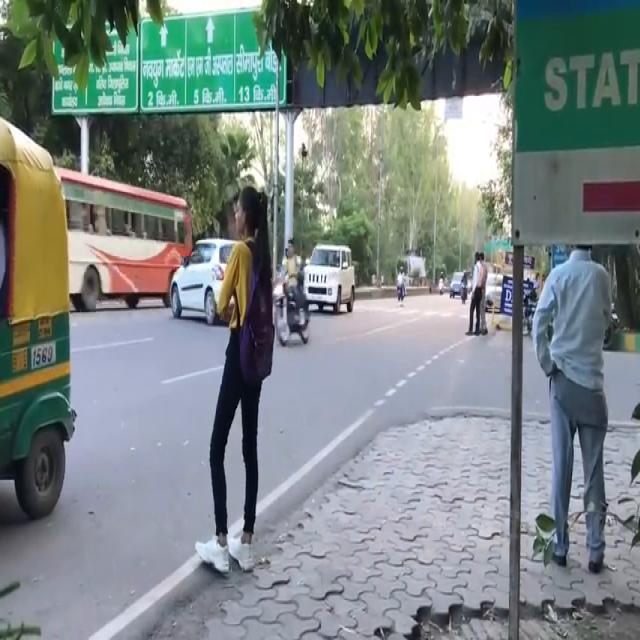BUS: (50, 170, 189, 314)
MOTORCYCLE: (270, 275, 311, 341)
